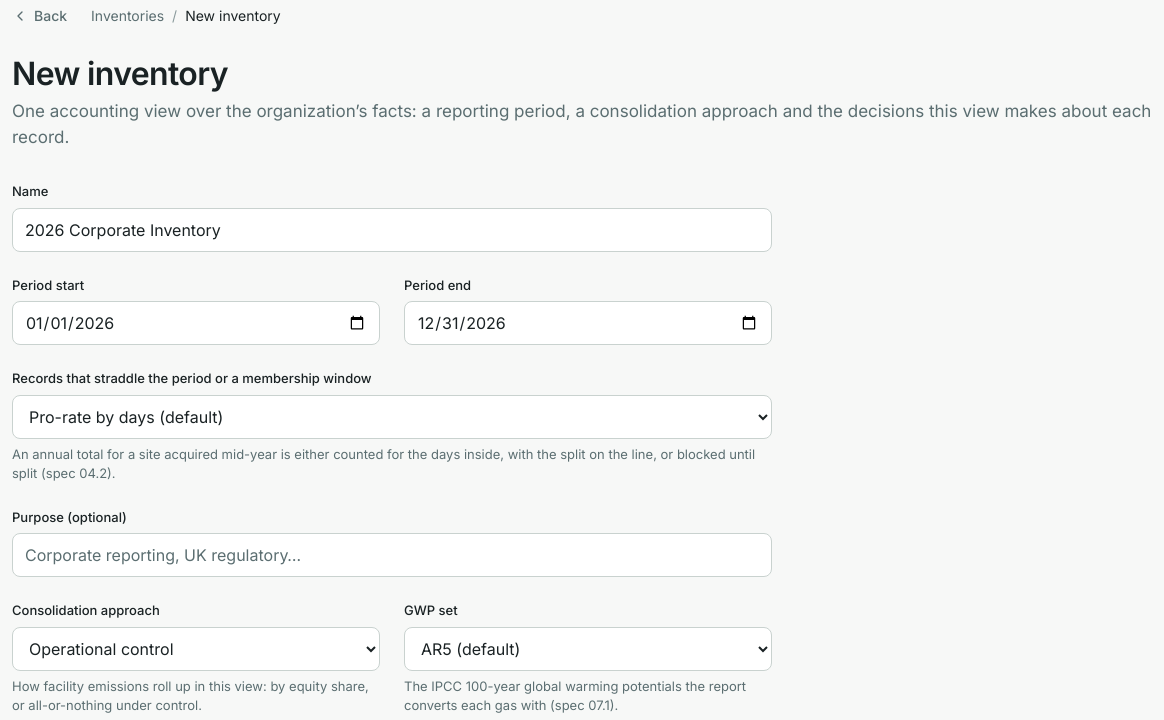
it: the form warns when the period is not twelve months and names a fiscal year
This screenshot has width=1164, height=720.
Step 1. Type "2025-01-01" into the date field labelled "Period start" → (196, 323), box [12, 301, 380, 345]
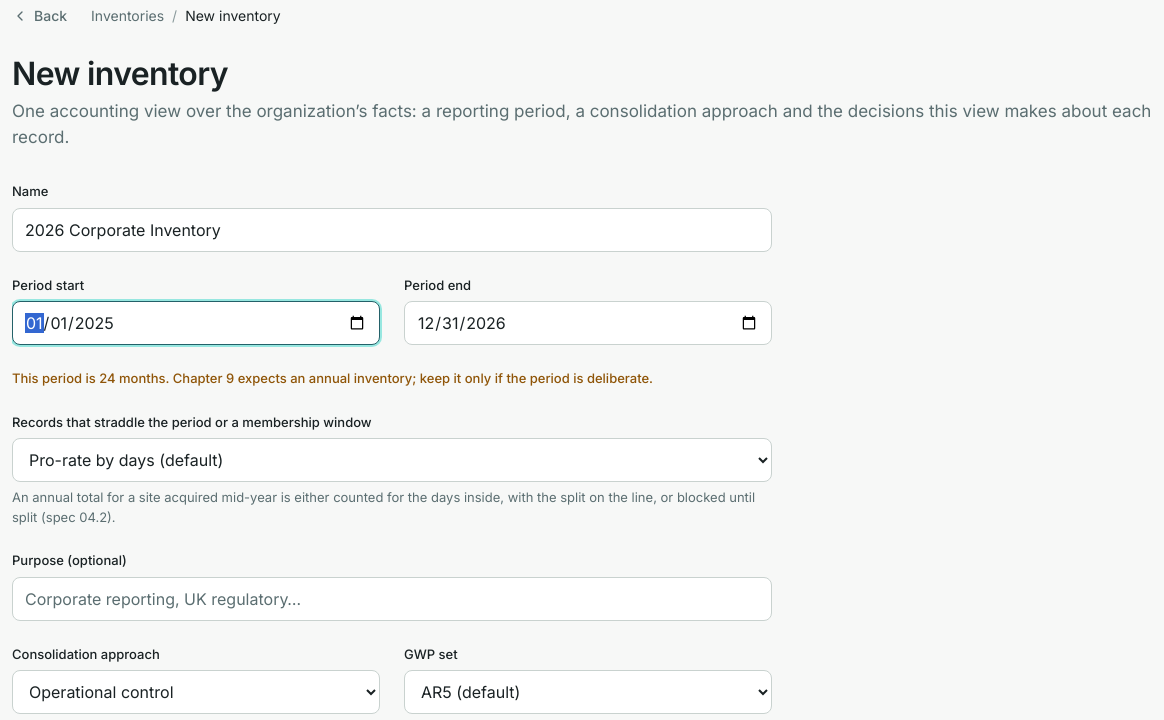
Step 2. Type "2026-06-30" into the date field labelled "Period end" → (588, 323), box [404, 301, 772, 345]
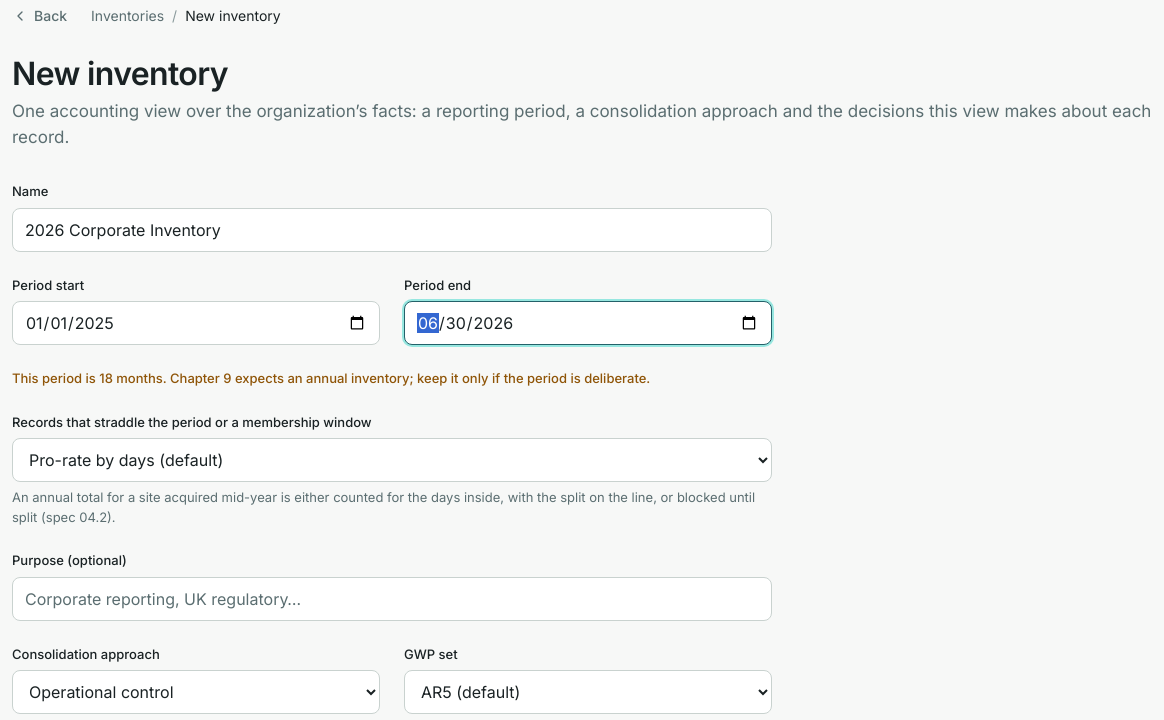
Check: the message shows "18 months", box [99, 370, 163, 386]
Step 3. Type "2025-07-01" into the date field labelled "Period start" → (196, 323), box [12, 301, 380, 345]
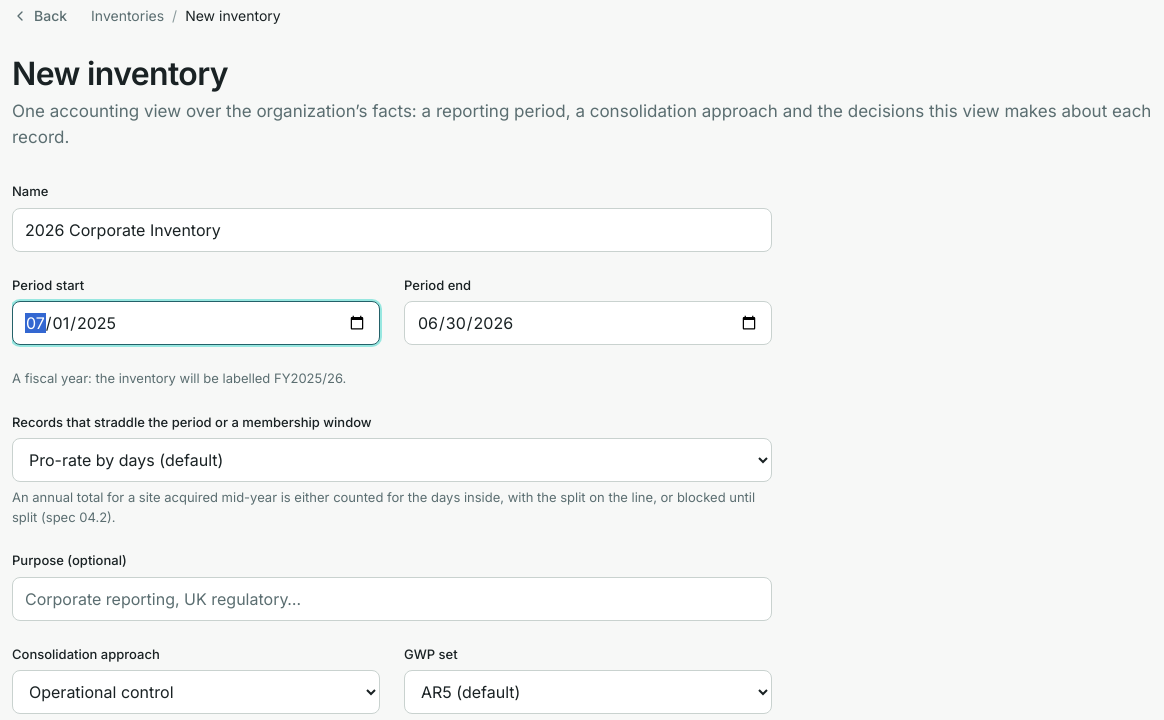
Check: the message shows "FY2025/26", box [12, 370, 346, 386]
